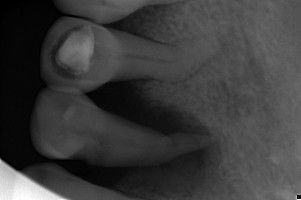Endo-Periodontal Lesion: (117, 82, 223, 193)
